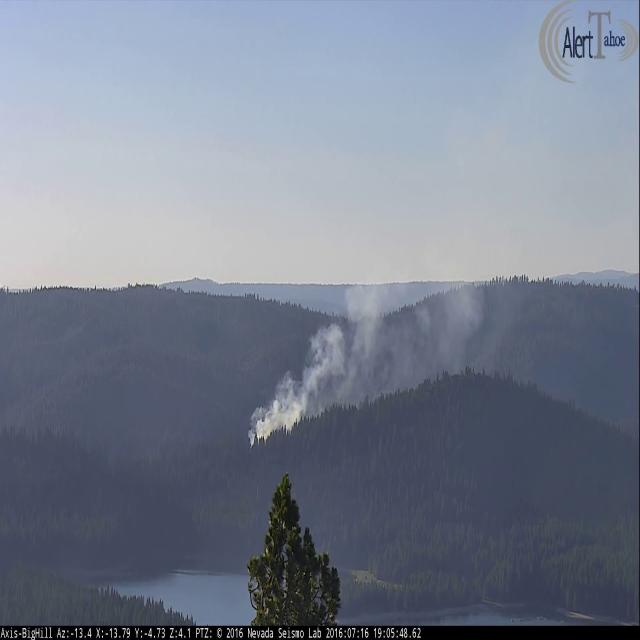smoke: (248, 101, 556, 446)
